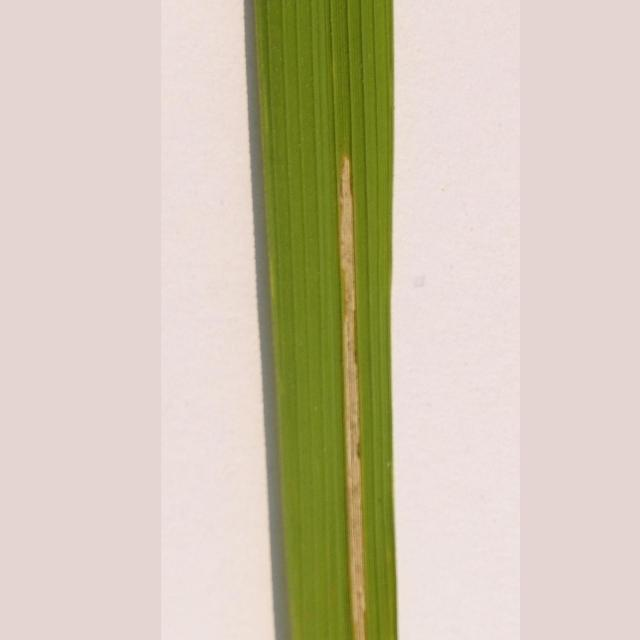Bacterial leaf blight: (226, 1, 458, 640)
